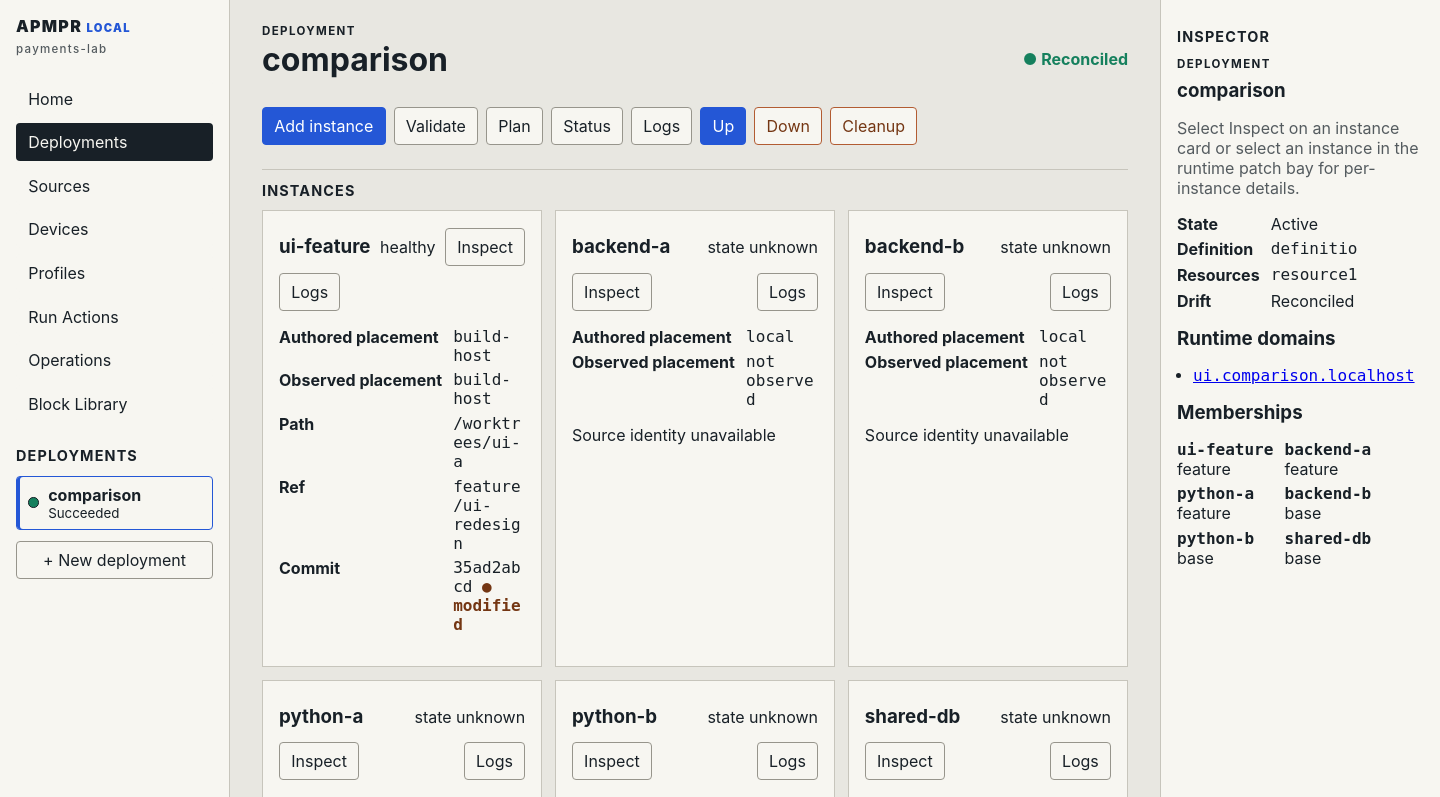
Test case: APM ProjectRunner GUI › shows placements and blocks removal of an occupied device
The image size is (1440, 797).
Click the button "devices": [114, 229] box left=16, top=210, right=213, bottom=248
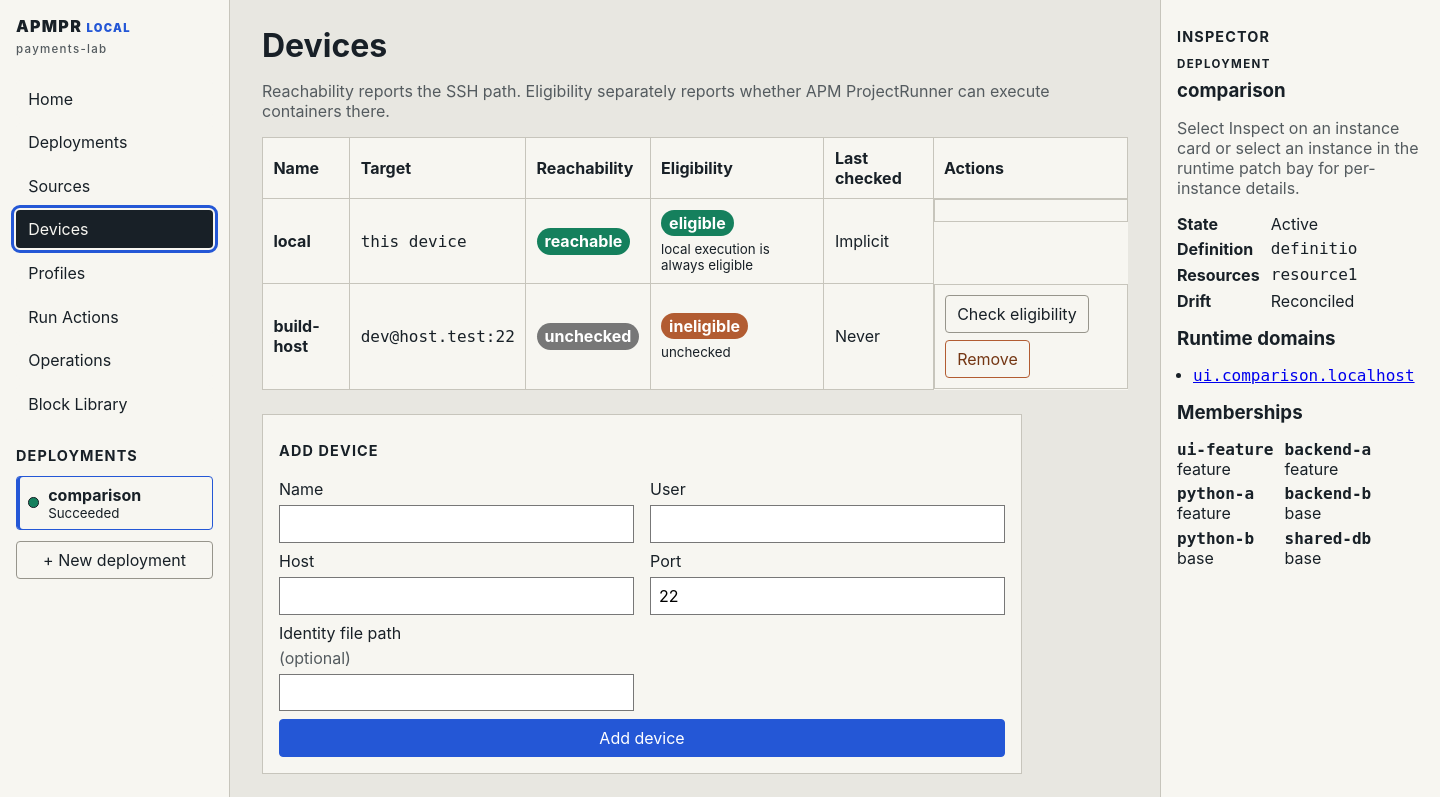
Click the button "Remove": [988, 359] box left=945, top=340, right=1030, bottom=378
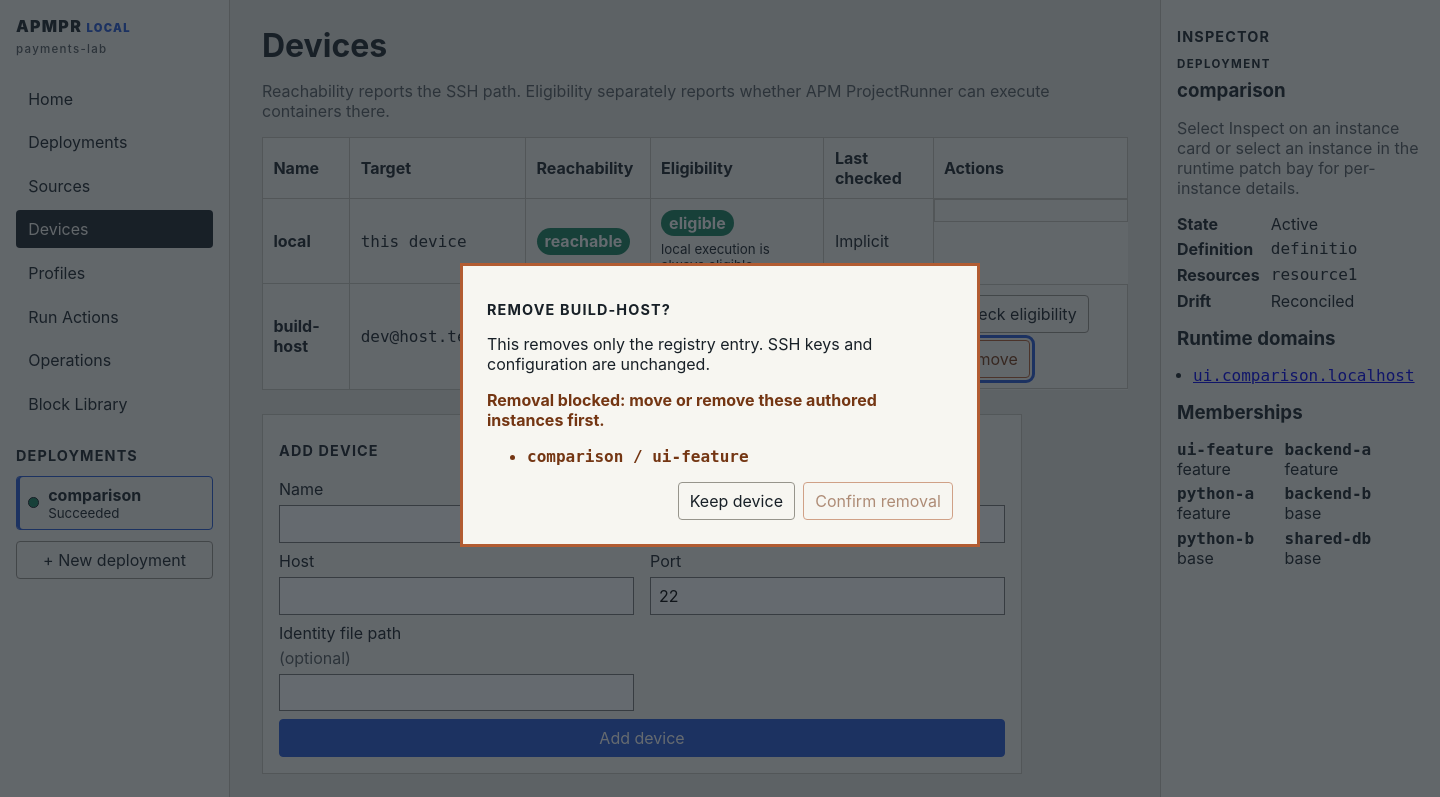
Result: the text "comparison / ui-feature" is shown at left=527, top=448, right=749, bottom=466
Result: the button "Confirm removal" is disabled at left=803, top=482, right=953, bottom=520
